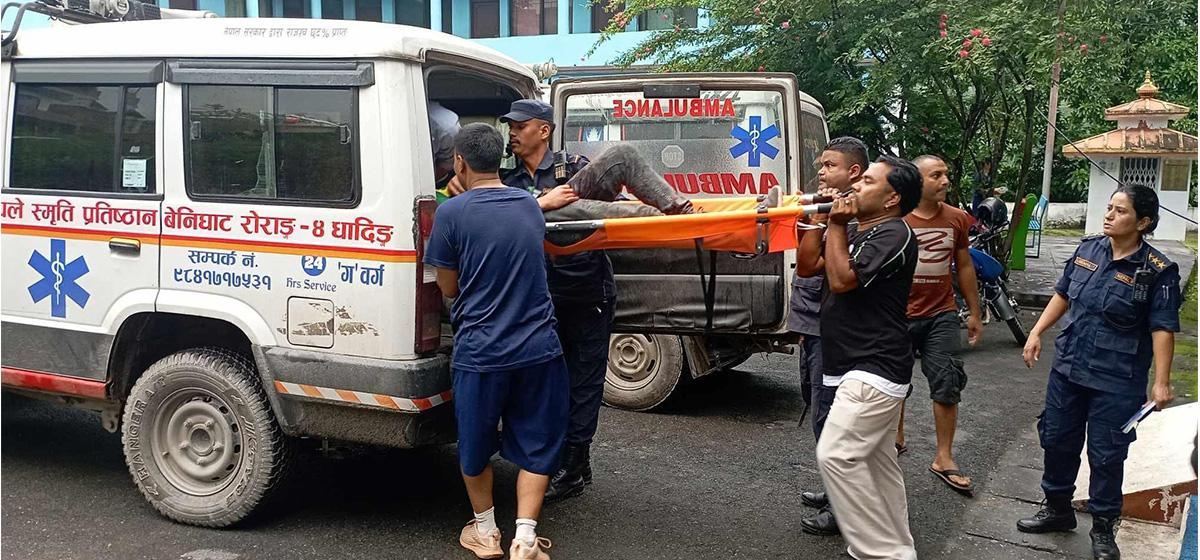ambulance: (0, 0, 585, 551)
